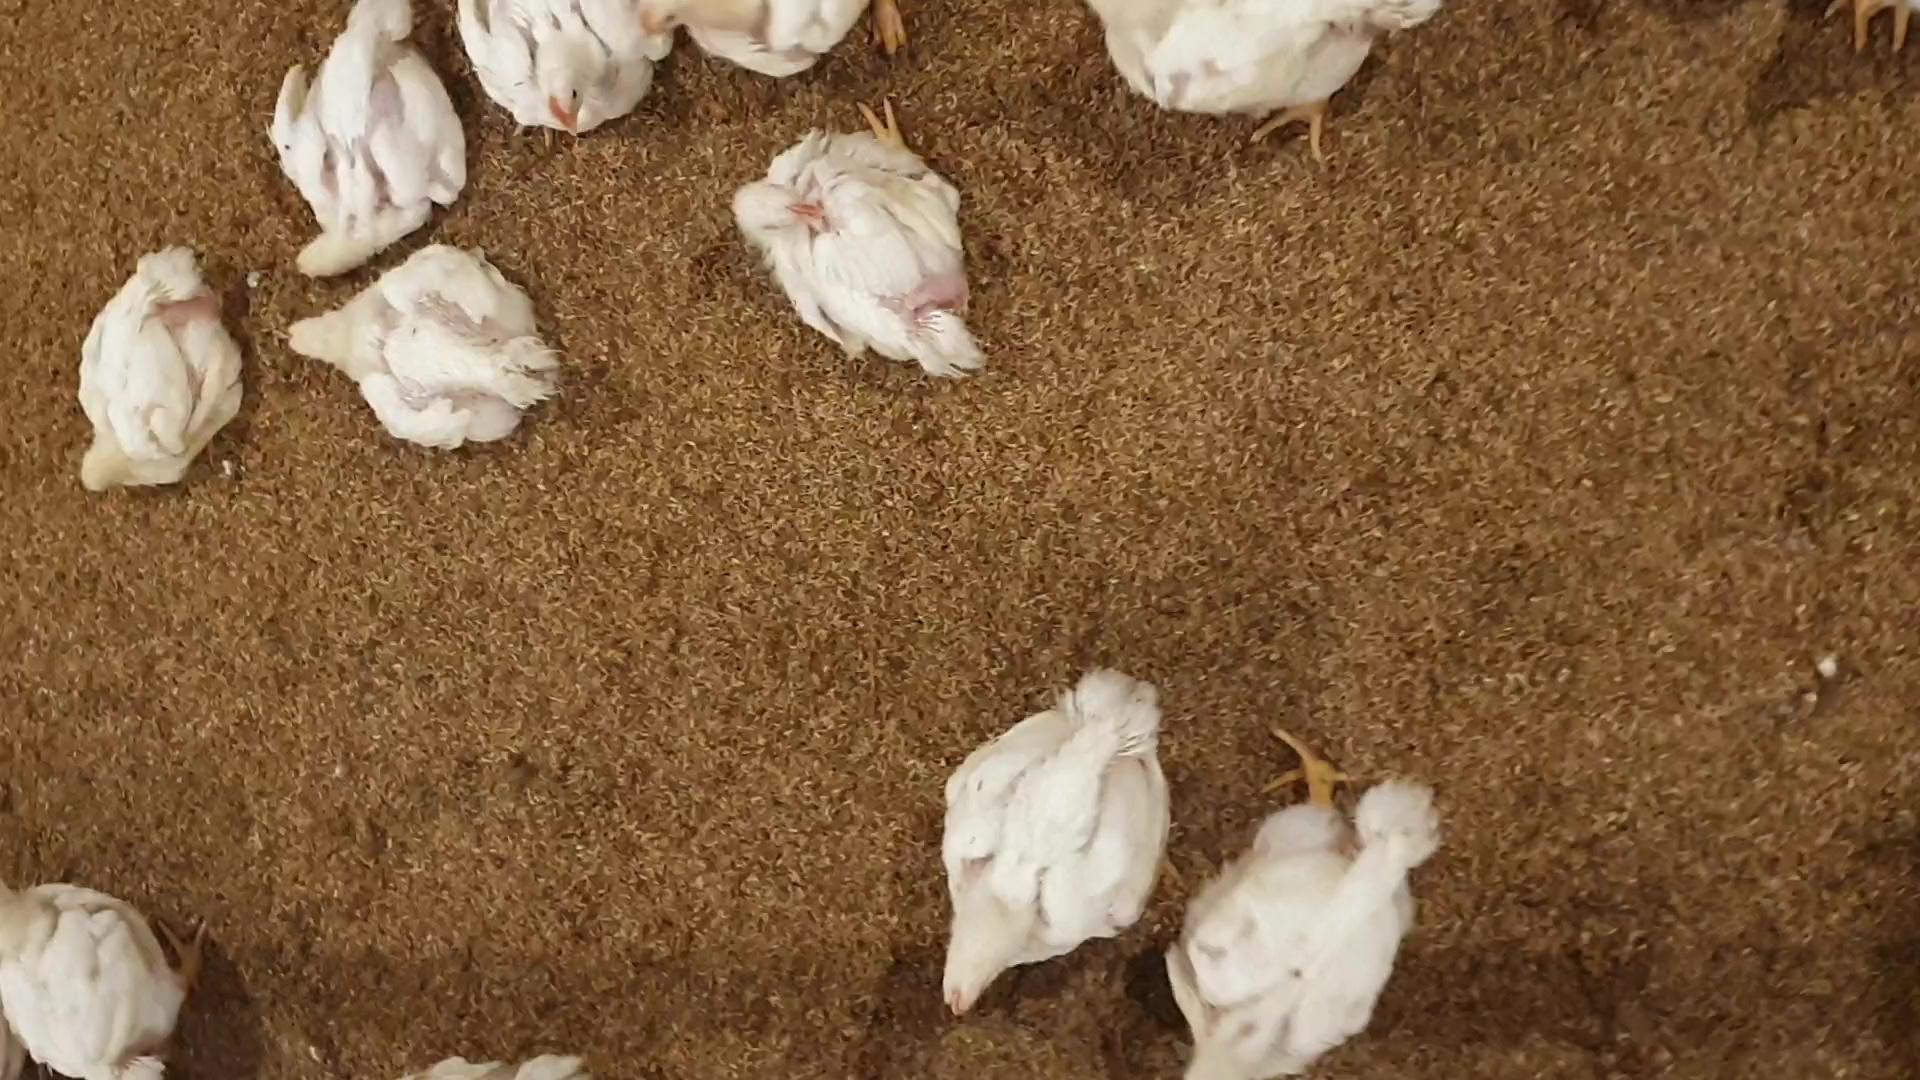Pollos: (928, 666, 1182, 1025), (1184, 771, 1443, 1080), (724, 127, 992, 382), (280, 248, 547, 431), (270, 4, 455, 255), (80, 235, 244, 517), (462, 0, 646, 140)
